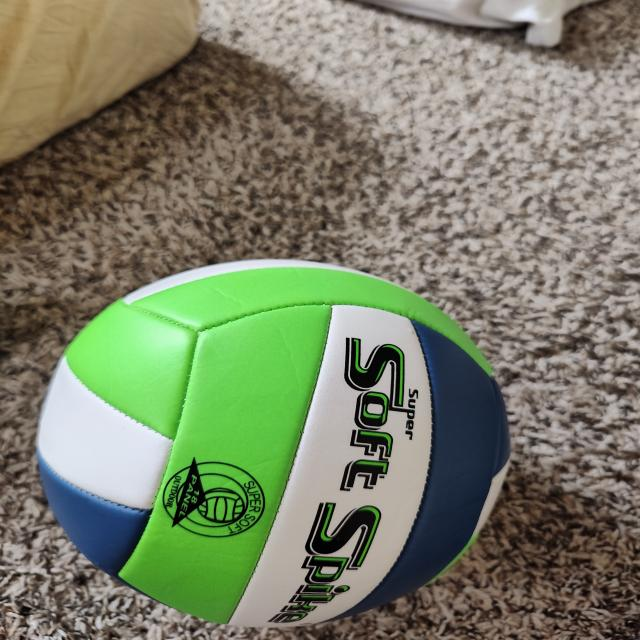ball: (28, 258, 505, 627)
